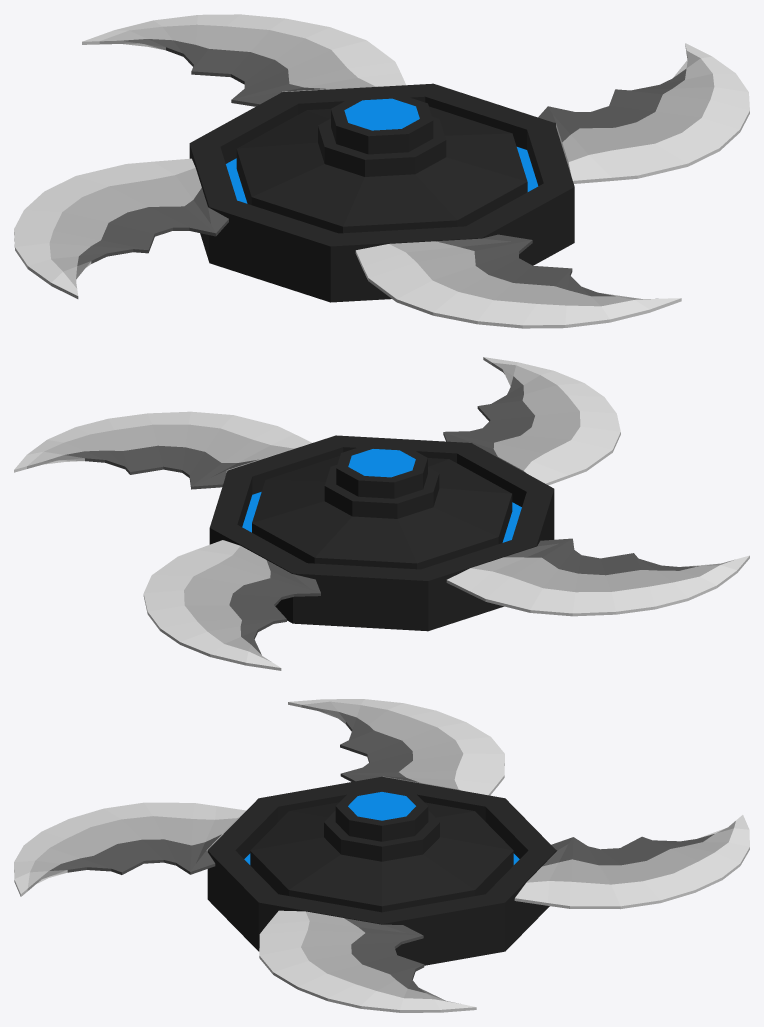
Rendered from Obstacle1.fbx.
3 renders of one model, top to bottom at view 1: azimuth 30°, elevation 25°; view 2: azimuth 150°, elevation 25°; view 3: azimuth 270°, elevation 25°, orthographic. The views are drawn at different scales.
Visible parts, largest first — view 1: Obstacle1; view 2: Obstacle1; view 3: Obstacle1.
Boxes of the visible parts, <box> form: Obstacle1: <box>14,14,749,328</box>; Obstacle1: <box>14,357,749,670</box>; Obstacle1: <box>14,699,749,1012</box>.
Bounding box in the file's own units: 50.79 × 7.1 × 50.79.
